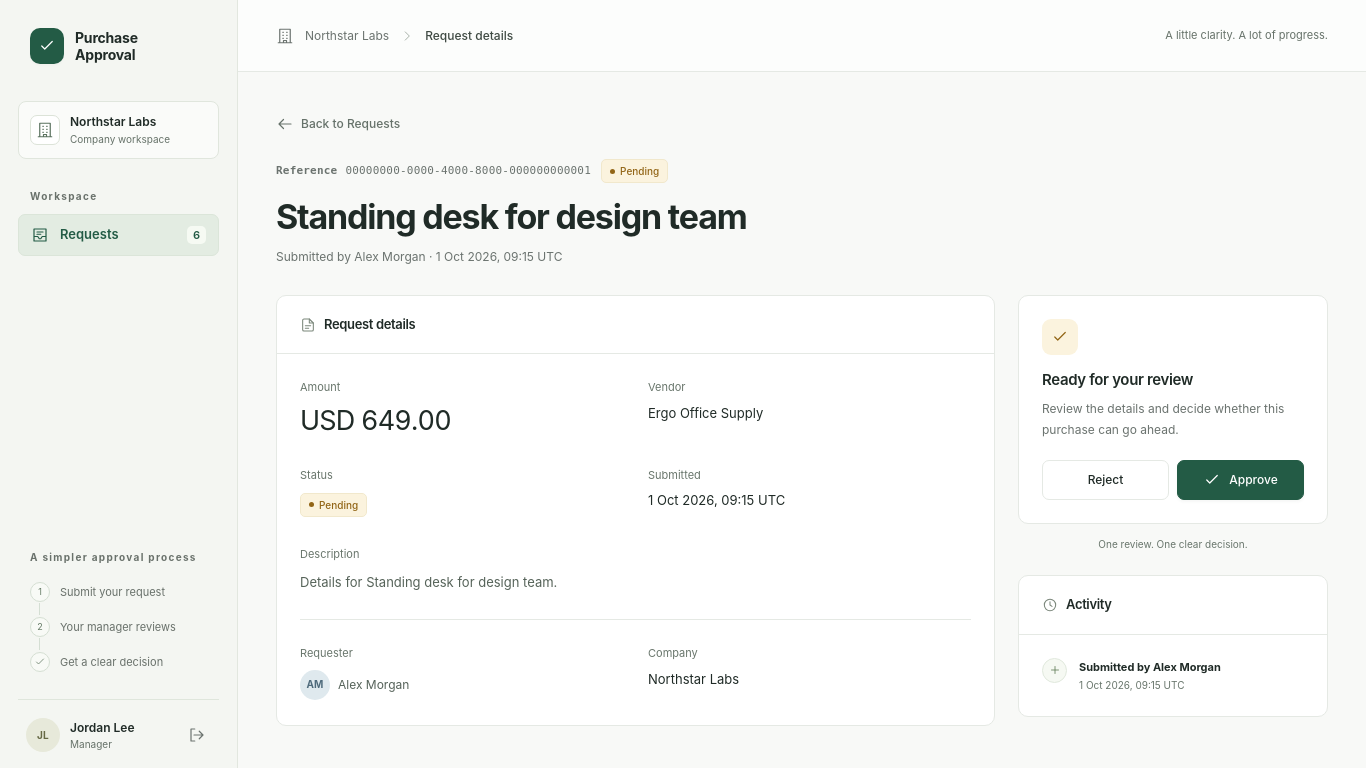
it: approving › asks for confirmation with the title and amount, and changes nothing on Cancel
This screenshot has width=1366, height=768.
Click the button "Approve".
click(1240, 480)  # box [1177,460,1304,500]
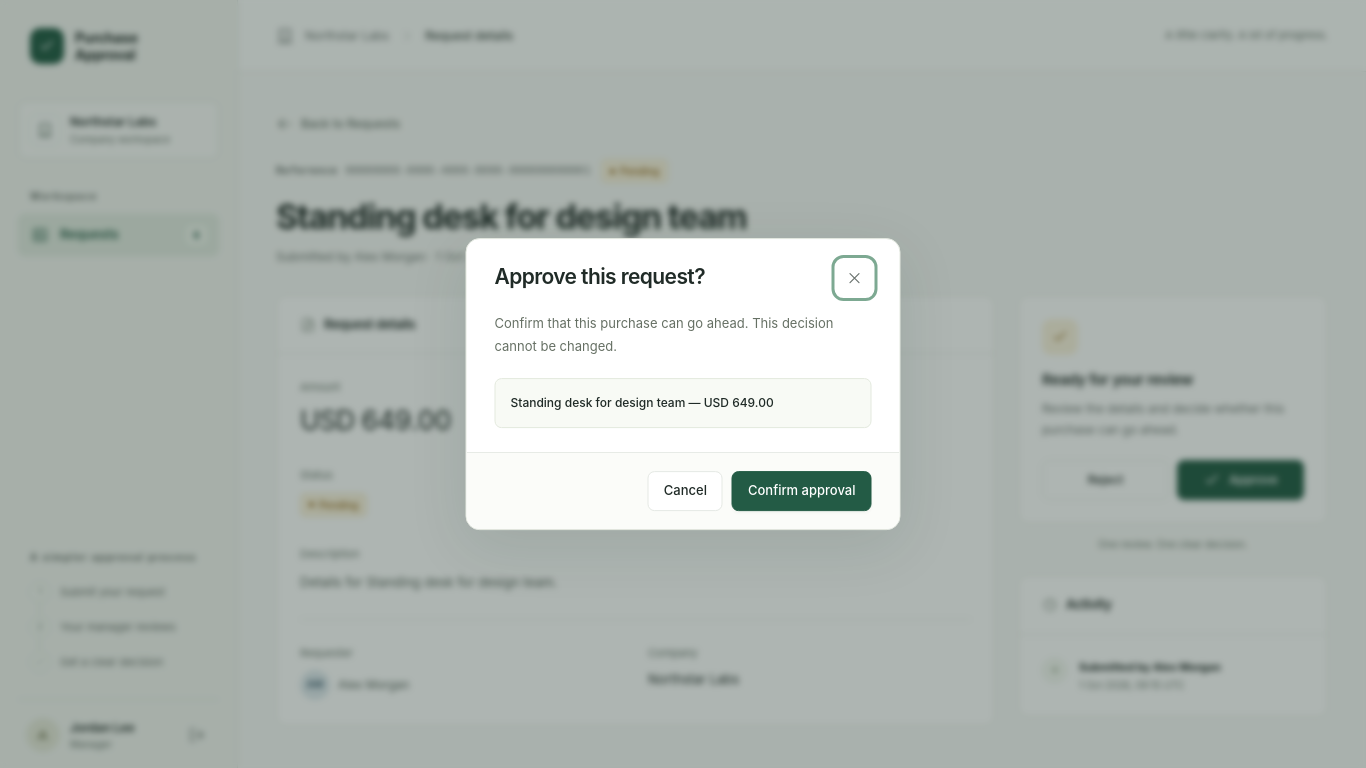
Click the button "Cancel".
click(685, 491)  # box [648,471,723,511]
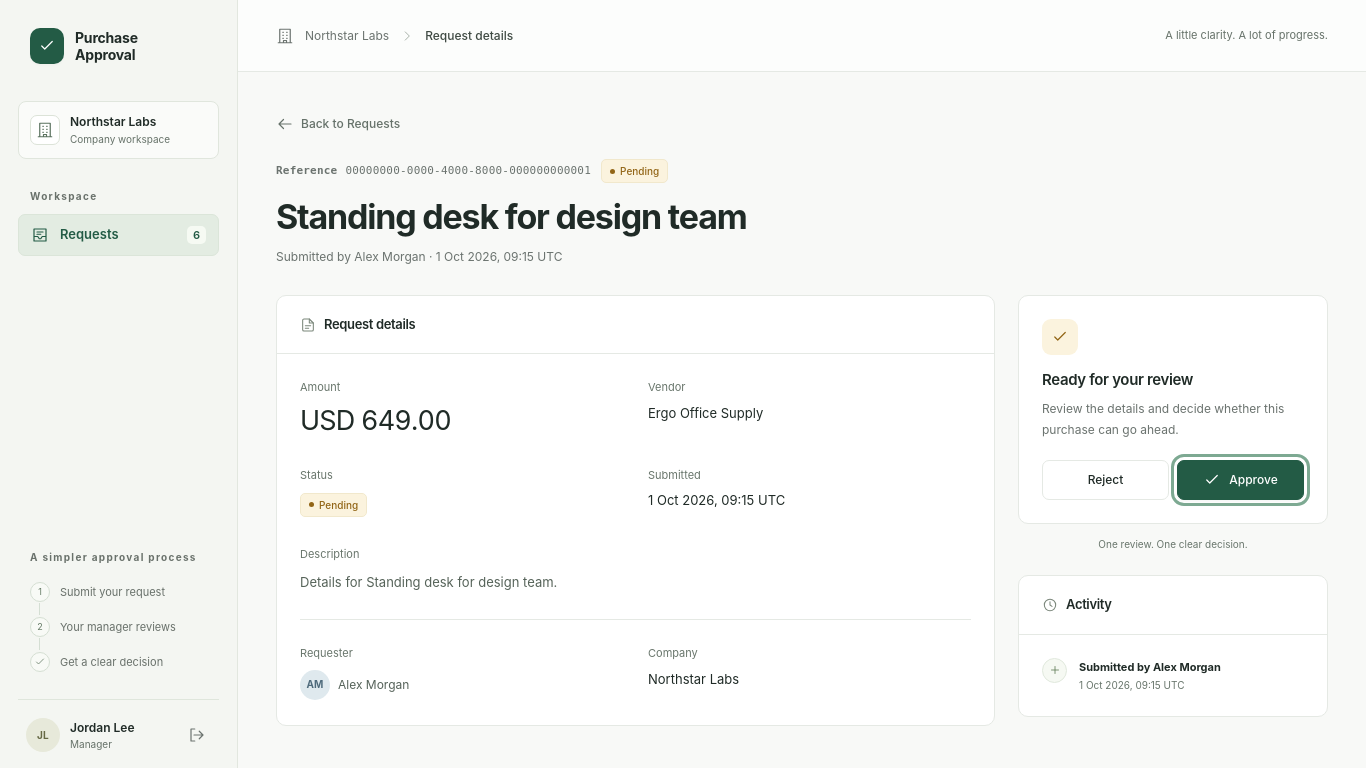
Expected: the dialog is gone
